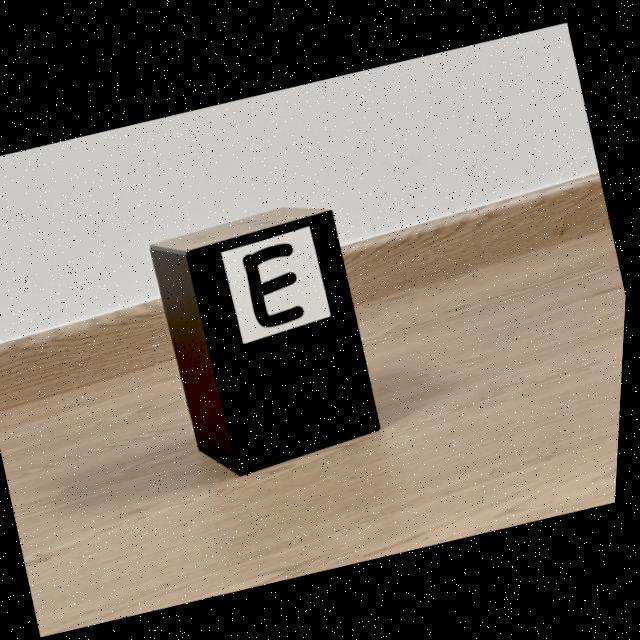E: (245, 241, 307, 325)
